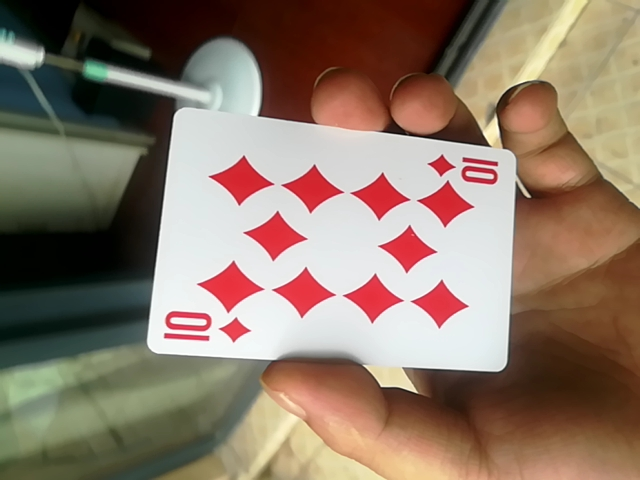fk 10: (142, 109, 519, 374)
